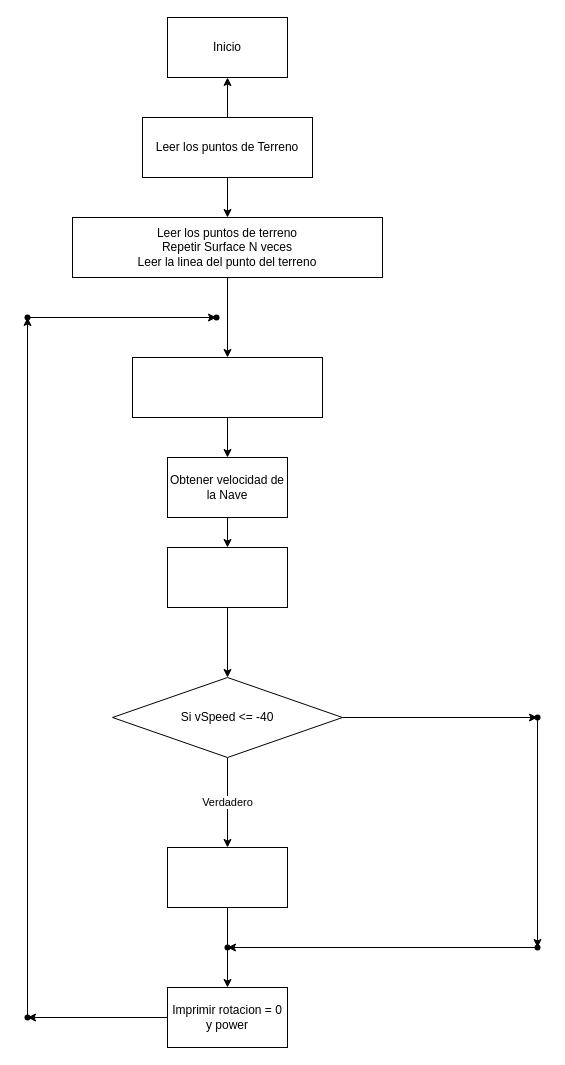
Some shapes in this 565 by 1065 pixel diagram are drawn without their labels. Here are the shapes that lost their labels. From the top down, the box of each, then its label:
(132, 356, 322, 418): Leer datos de la Nave
(166, 546, 288, 608): Declarar power = 0
(166, 846, 288, 908): power = 4
